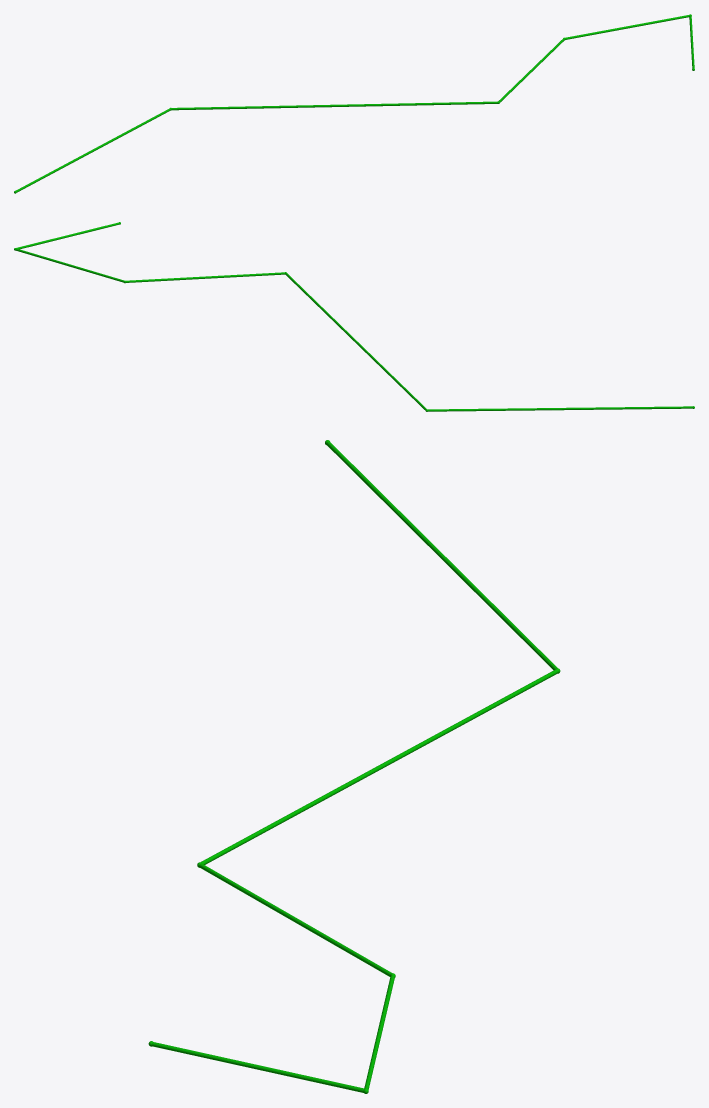
Rendered from waypoints_complete.glb.
3 renders of one model, top to bottom at view 1: azimuth 30°, elevation 25°; view 2: azimuth 150°, elevation 25°; view 3: azimuth 270°, elevation 25°, orthographic. The views are drawn at different scales.
Visible parts, largest first — view 1: Renderer Node; view 2: Renderer Node; view 3: Renderer Node.
Part boxes in pixels (x1=…): Renderer Node: x1=14, y1=14, x2=694, y2=193; Renderer Node: x1=14, y1=222, x2=694, y2=411; Renderer Node: x1=148, y1=440, x2=560, y2=1093.
Bounding box in the file's own units: 66621 × 1707 × 17698.
